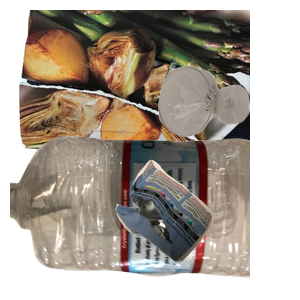glass: (156, 64, 300, 194)
paper: (16, 10, 256, 172)
plastic: (10, 134, 250, 300)
trash: (113, 157, 300, 300)
